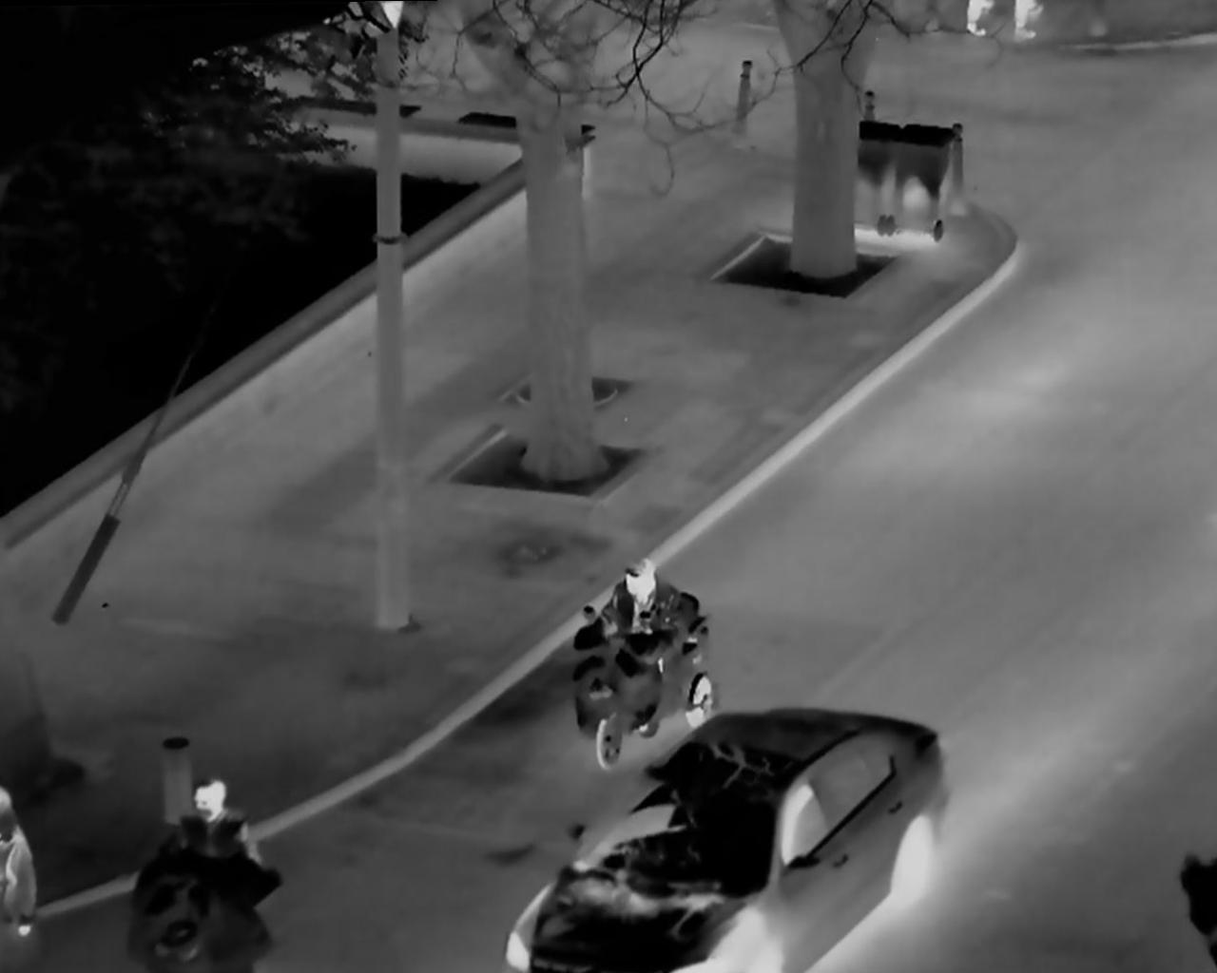person: (578, 552, 699, 753), (154, 760, 267, 925)
